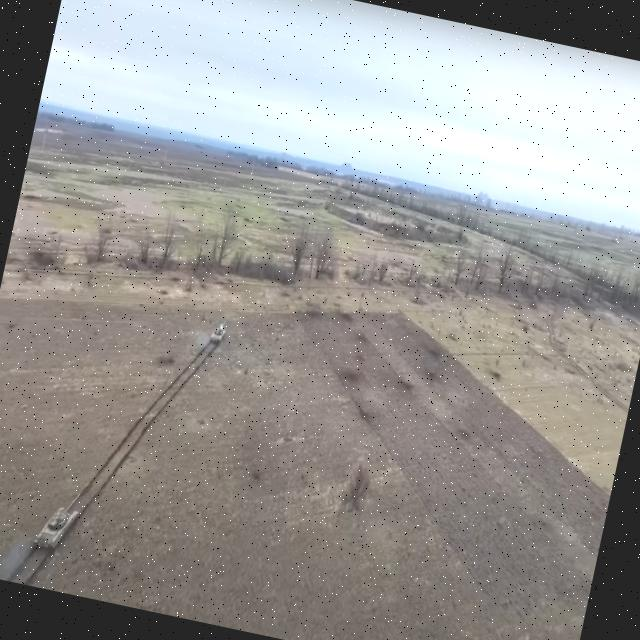MBT: (33, 484, 85, 561), (208, 316, 229, 349)
